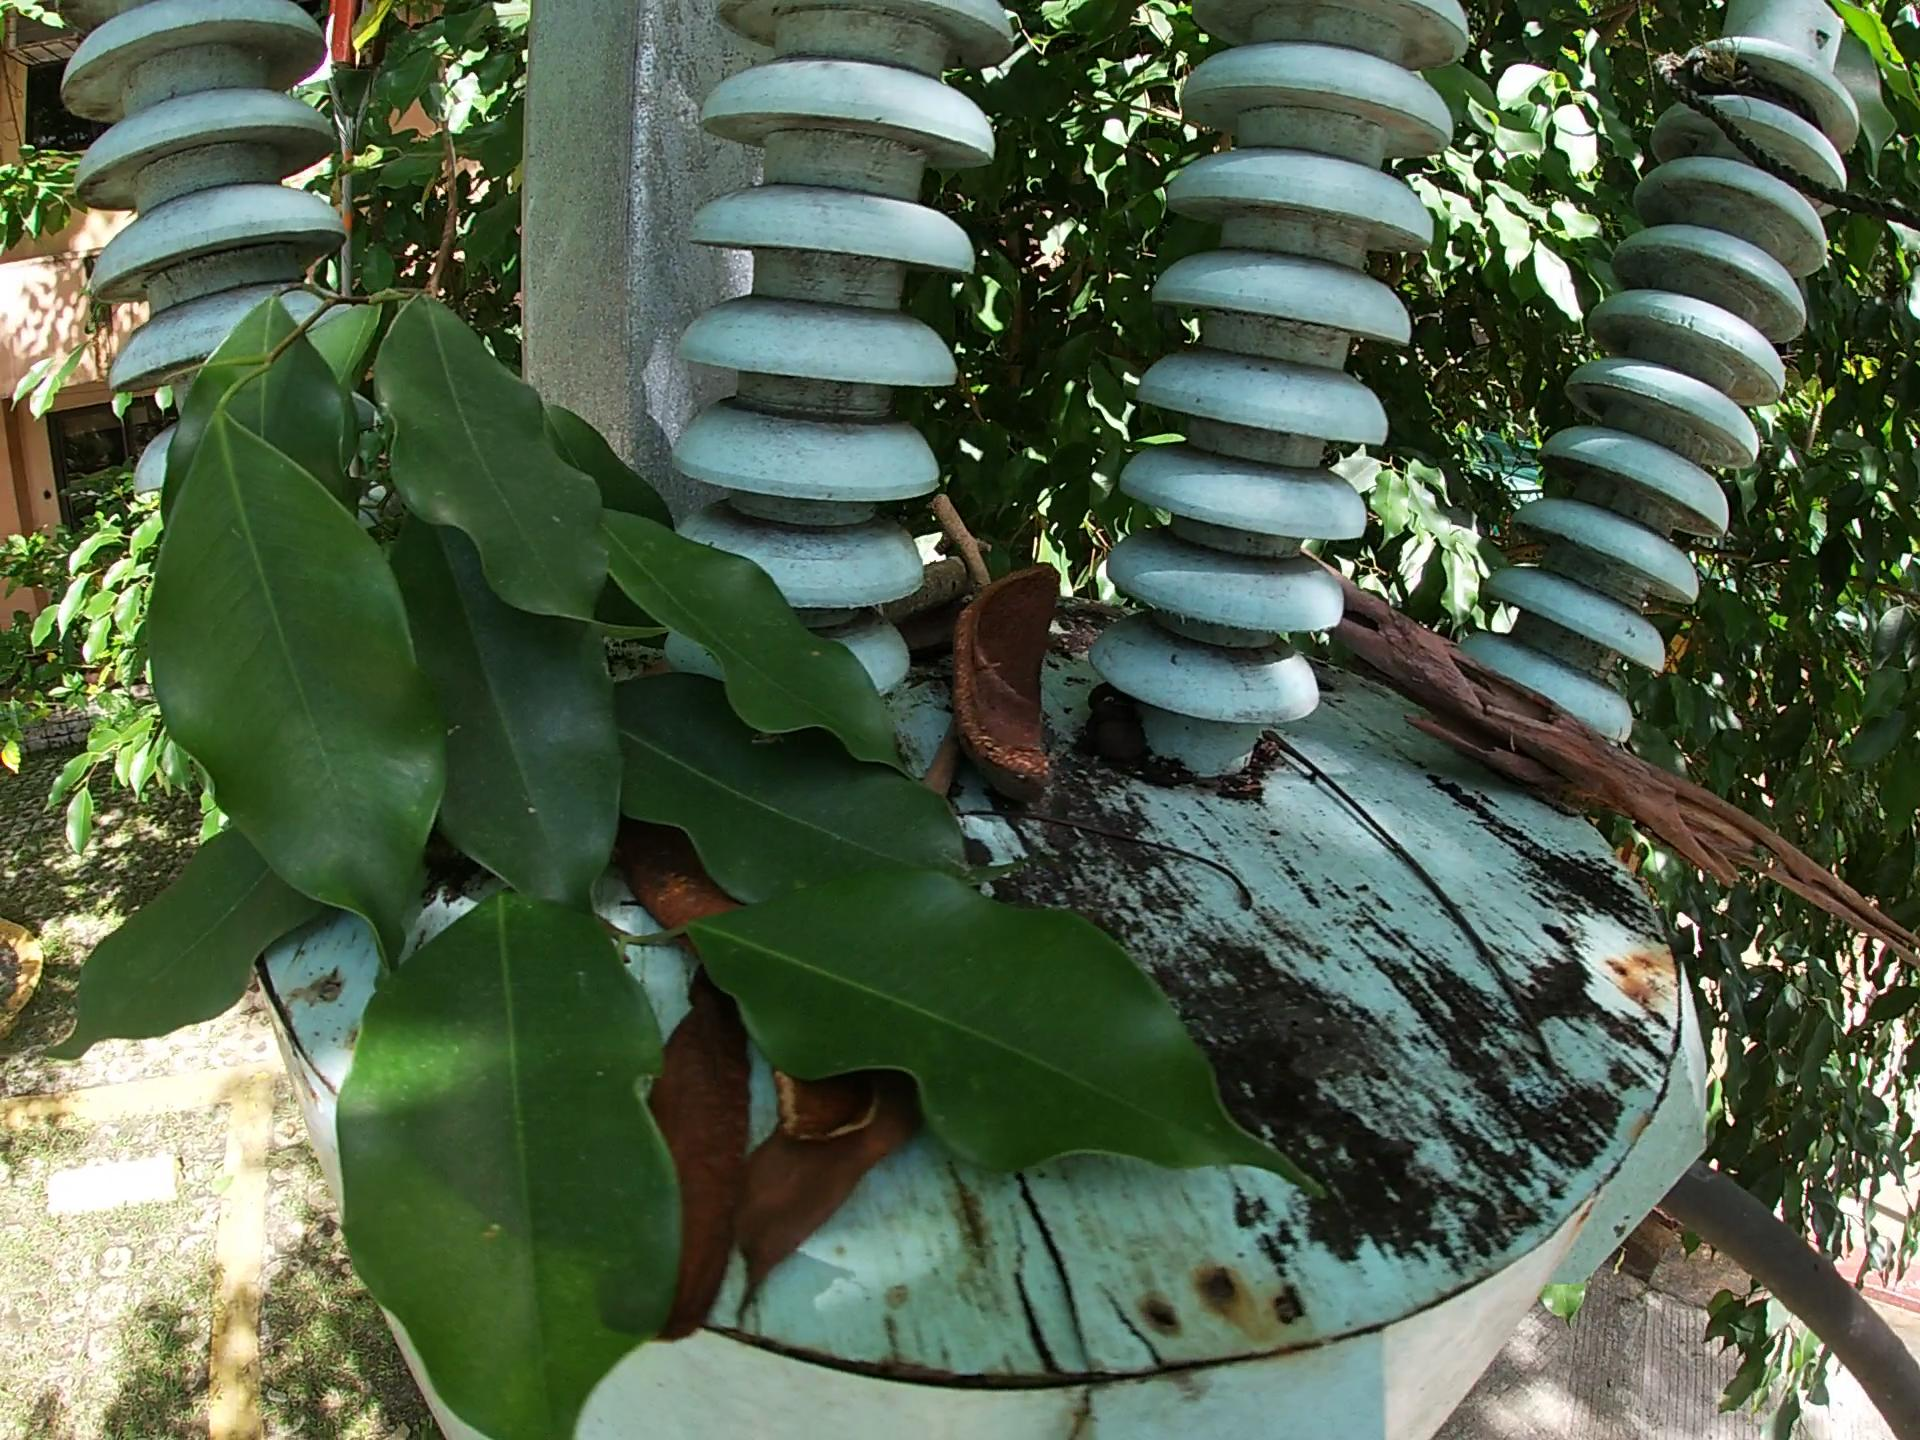branch with leaves: (14, 209, 1374, 1429)
leaf: (735, 1137, 881, 1314), (626, 814, 780, 961)
mahogany fruit: (597, 961, 770, 1349), (962, 566, 1067, 812), (760, 1023, 884, 1148)
tree branch: (1306, 545, 1909, 985), (1276, 728, 1590, 1080), (958, 809, 1271, 914), (875, 551, 969, 629), (928, 484, 987, 579), (921, 732, 965, 808)
